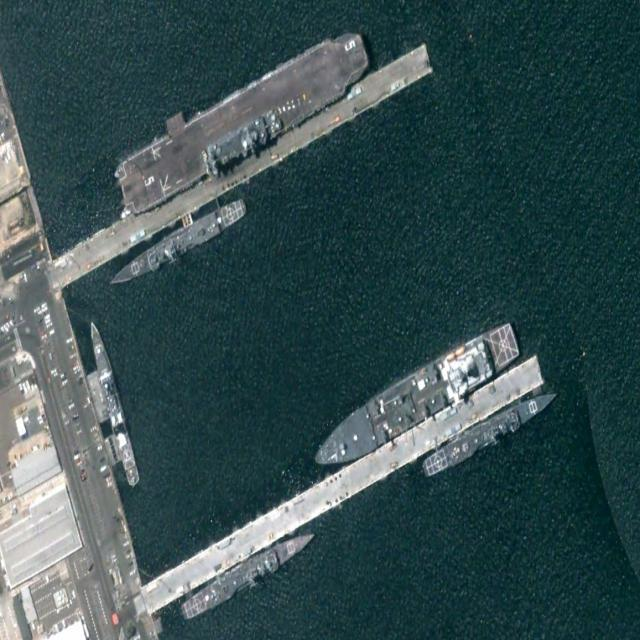Commander: (308, 313, 522, 483)
Frigate: (178, 520, 319, 626), (106, 192, 248, 295), (420, 381, 560, 483)
Landing: (110, 7, 374, 224)
Other Ship: (84, 316, 143, 489)
